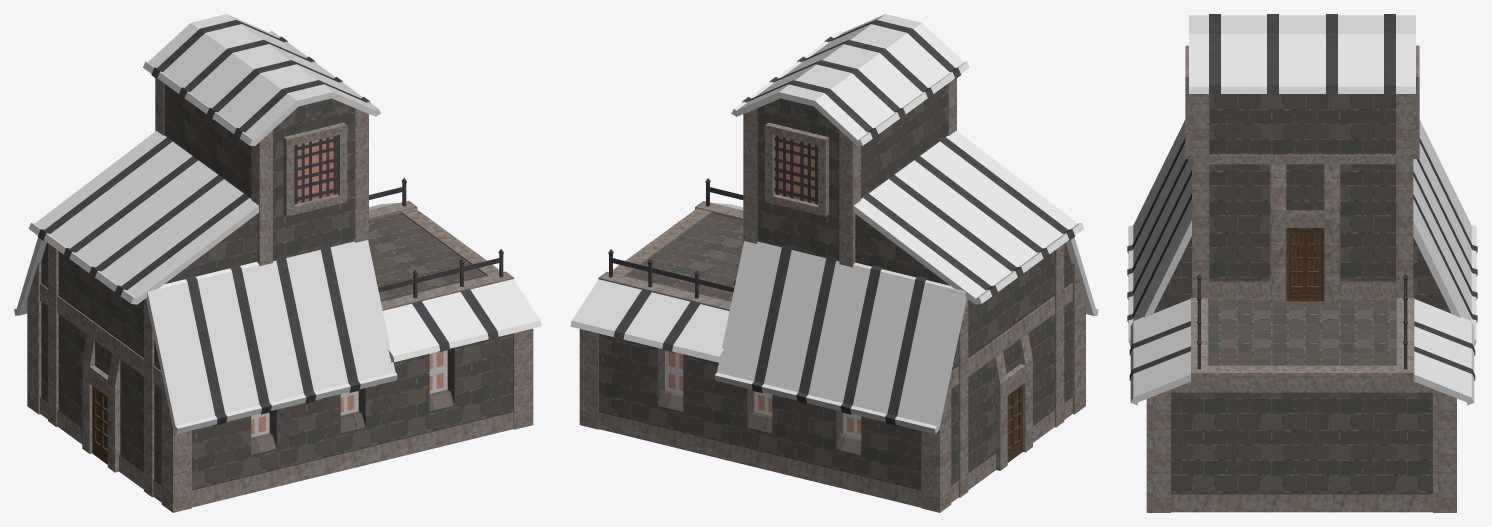
File: TestBuilding01.fbx
3 views of the same model, side by side, from view 1: azimuth 30°, elevation 25°; view 2: azimuth 150°, elevation 25°; view 3: azimuth 270°, elevation 25° (orthographic). The views are drawn at different scales.
Visible parts, largest first — view 1: Building02; view 2: Building02; view 3: Building02.
Part boxes in pixels (x1,y1,x2,y2): Building02: [14, 14, 541, 512]; Building02: [570, 14, 1098, 512]; Building02: [1127, 14, 1477, 512].
Bounding box in the file's own units: 1070 × 971 × 797.
Materials: 7 (6 with a texture image).
